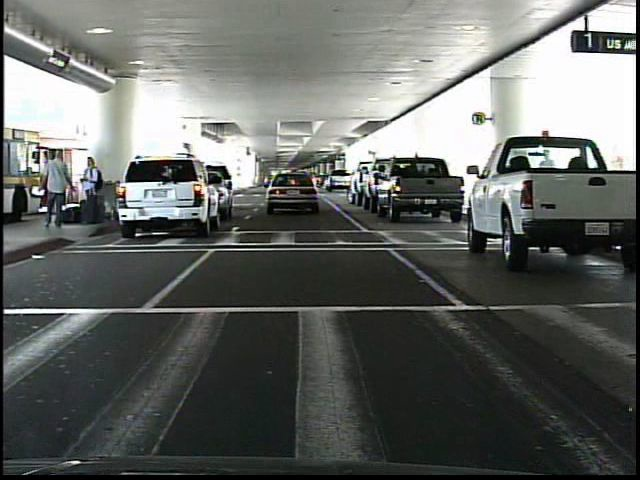person: (41, 149, 75, 232), (79, 155, 104, 228)
